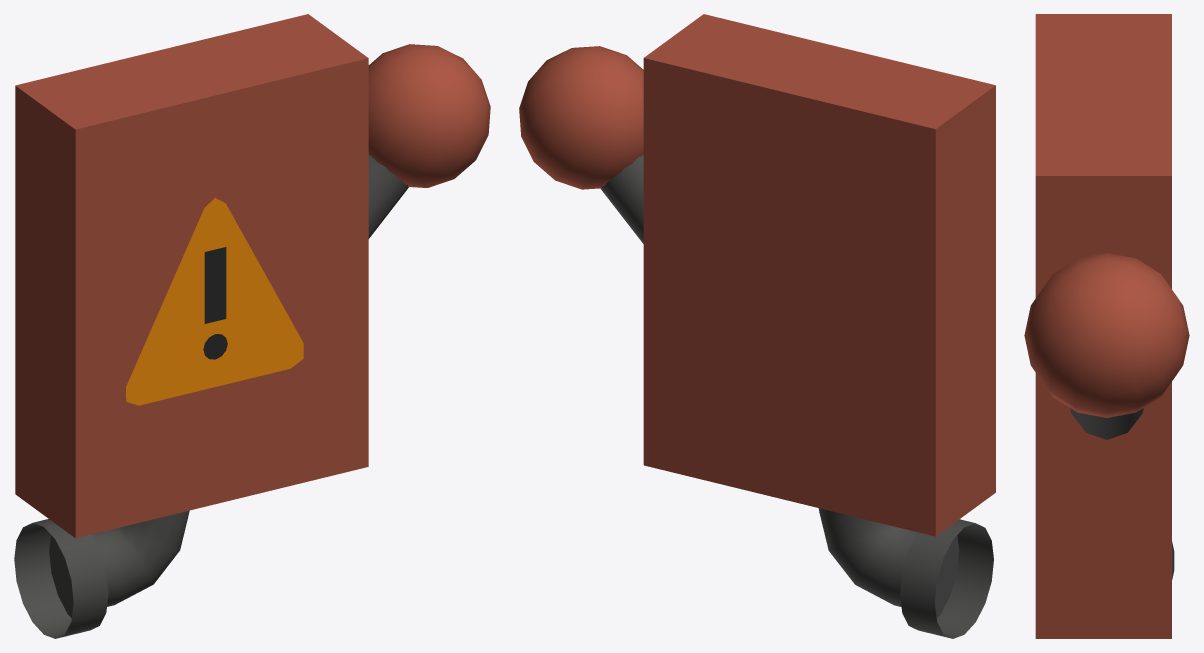
Rendered from deng_kaiguan.FBX.
The picture shows the model from 3 angles, left to right: view 1: azimuth 30°, elevation 25°; view 2: azimuth 150°, elevation 25°; view 3: azimuth 270°, elevation 25°; orthographic projection. The views are drawn at different scales.
Visible parts, largest first — view 1: 灯的开关; view 2: 灯的开关; view 3: 灯的开关.
Part boxes in pixels (bbox=[...]): 灯的开关: bbox=[14, 14, 490, 638]; 灯的开关: bbox=[519, 14, 995, 638]; 灯的开关: bbox=[1024, 14, 1189, 638].
Bounding box in the file's own units: 80.91 × 93.29 × 23.34.
